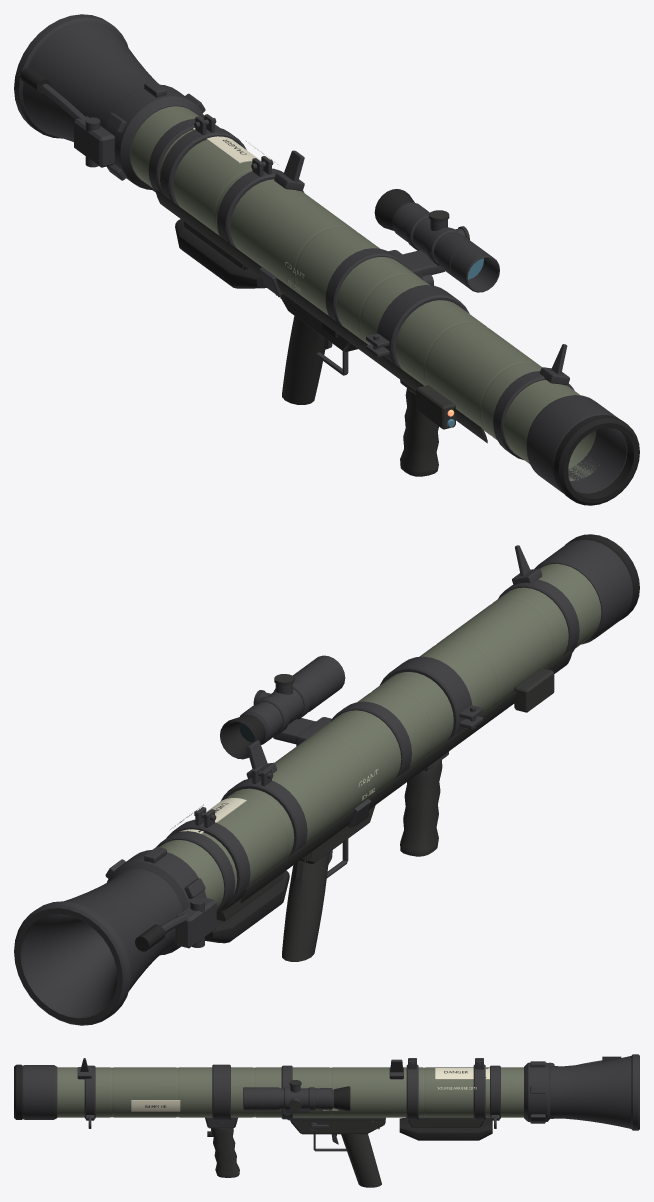
The model's file is grant.glb.
3 renders of one model, top to bottom at view 1: azimuth 30°, elevation 25°; view 2: azimuth 150°, elevation 25°; view 3: azimuth 270°, elevation 25°, orthographic. The views are drawn at different scales.
Visible parts, largest first — view 1: Body, opt_laser; view 2: Body, opt_laser; view 3: Body.
Part boxes in pixels (x1=…): Body: x1=14, y1=14, x2=639, y2=505; opt_laser: x1=416, y1=385, x2=455, y2=429; Body: x1=14, y1=534, x2=639, y2=1025; opt_laser: x1=514, y1=668, x2=554, y2=712; Body: x1=14, y1=1054, x2=639, y2=1187.
Size of the model in its own units: 0.208 by 0.2668 by 1.14.
